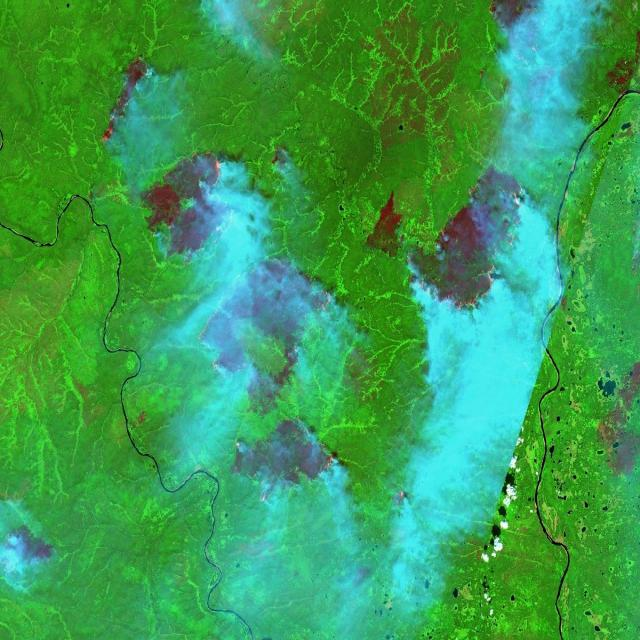fire: (192, 252, 342, 409), (412, 161, 534, 324), (228, 429, 346, 505), (100, 50, 153, 158), (1, 521, 60, 584), (174, 150, 237, 206), (391, 477, 428, 518)
